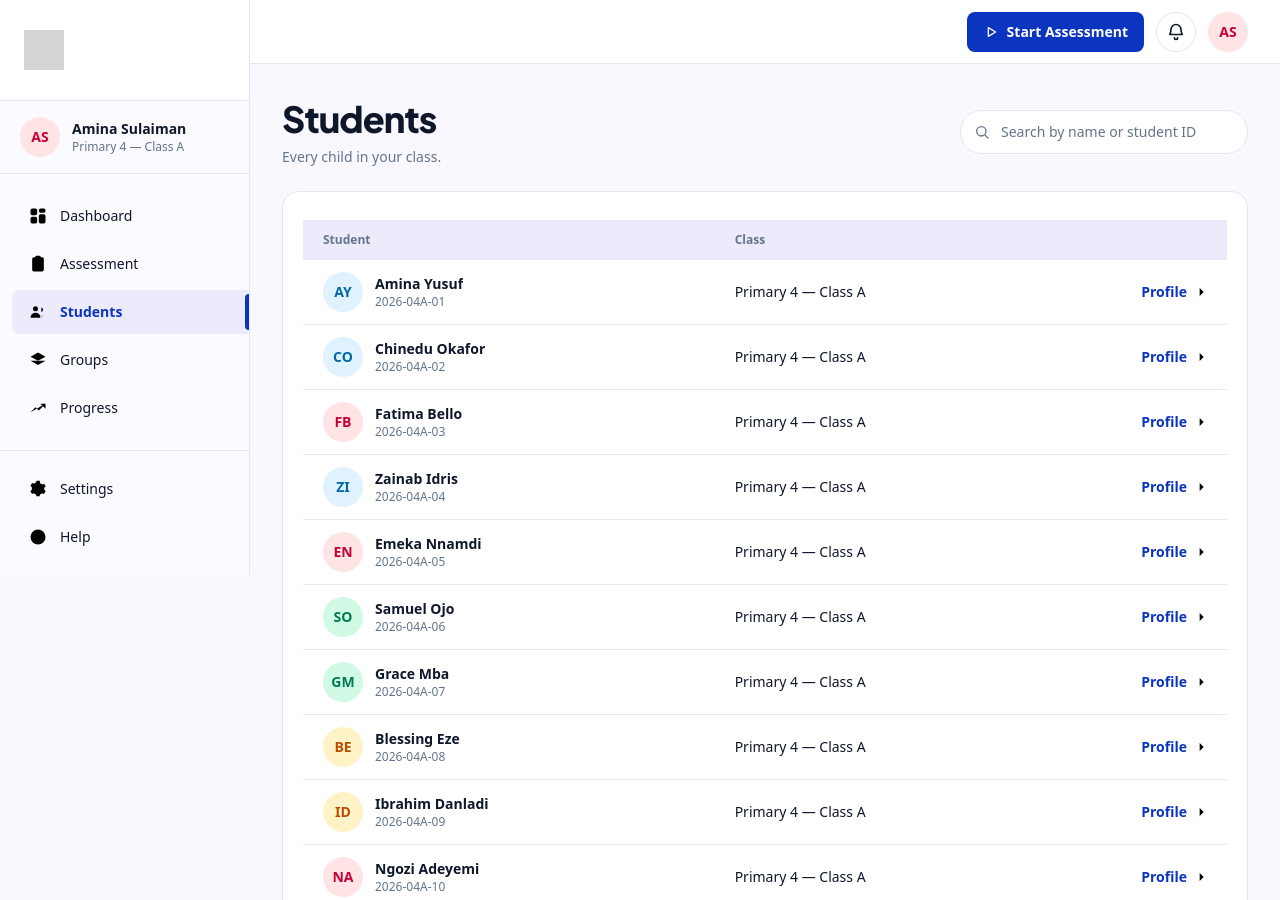
it: StudentsPage › narrows the roster with the search box
Expected: the text "Amina Yusuf" is shown, [375,274,463,294]
Step 1. Type "Fatima" into the search field named "Search students" → (1104, 132), box [960,110,1248,154]
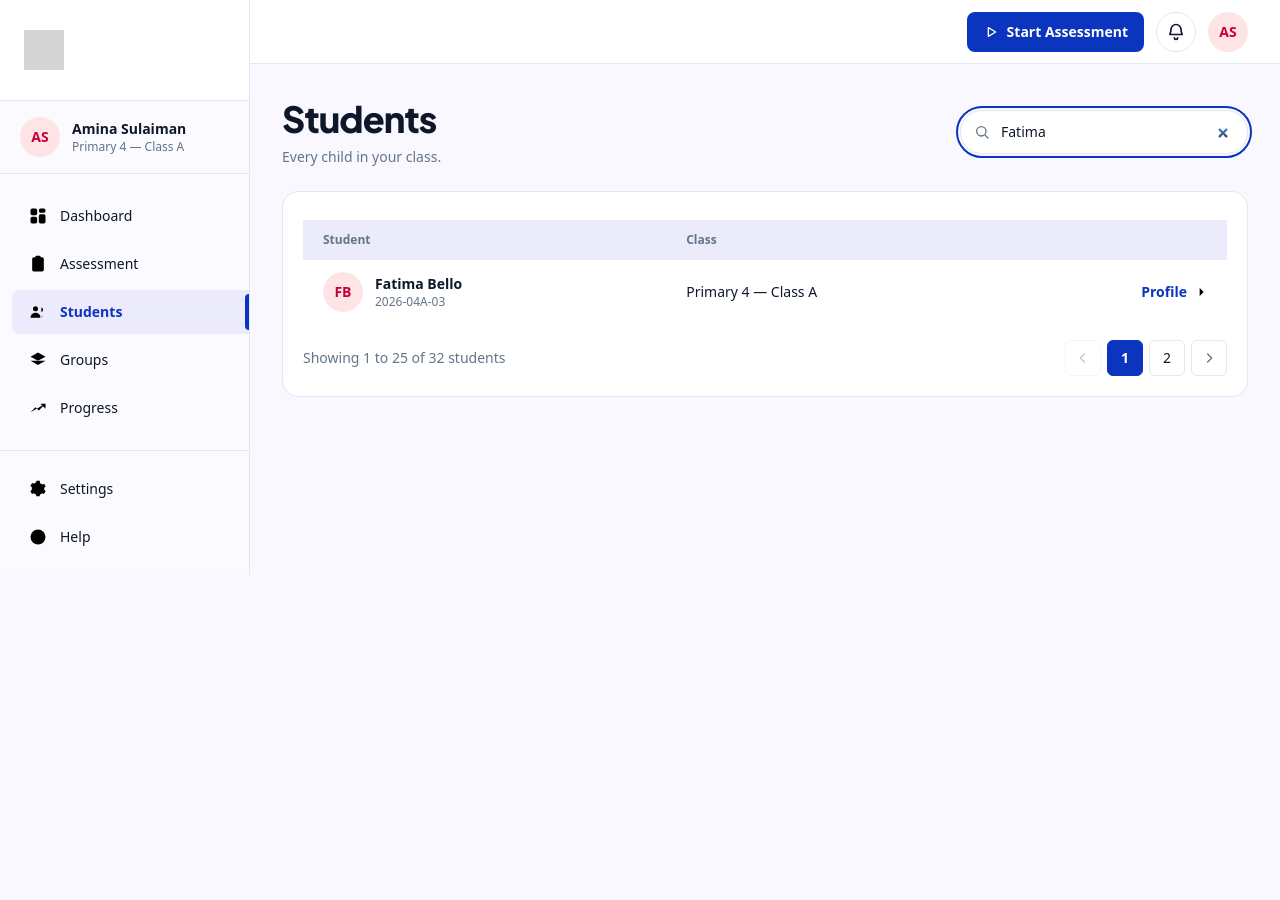
Expected: the text "Fatima Bello" is shown, [375,274,462,294]
Now the text "Amina Yusuf" is gone
